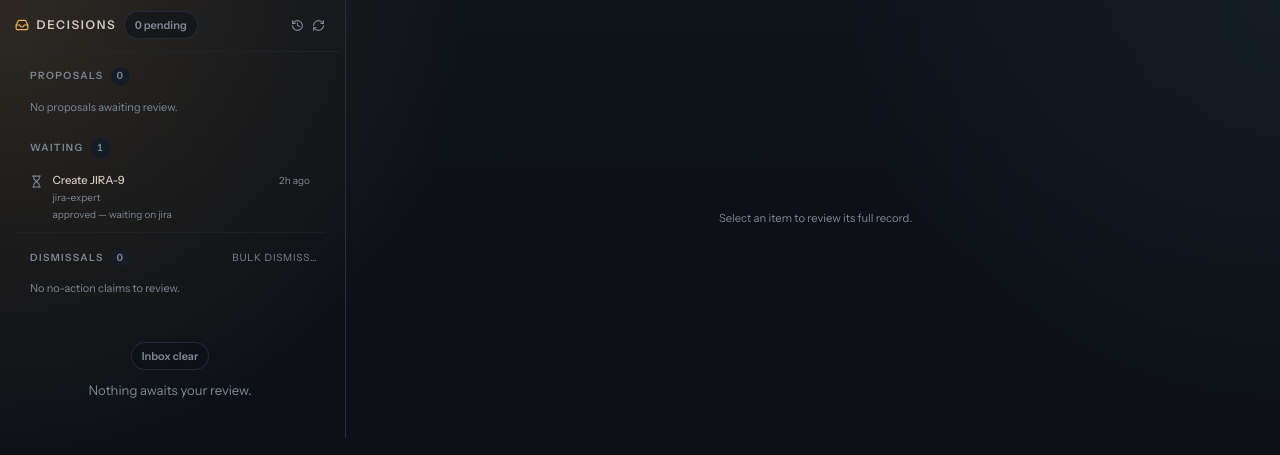
Test: DecisionsView waiting section › offers Retry now on a plain waiting proposal, scoped to its dependency
Click the button with test id "waiting-row": click(88, 180) x1=15 y1=163 x2=325 y2=233
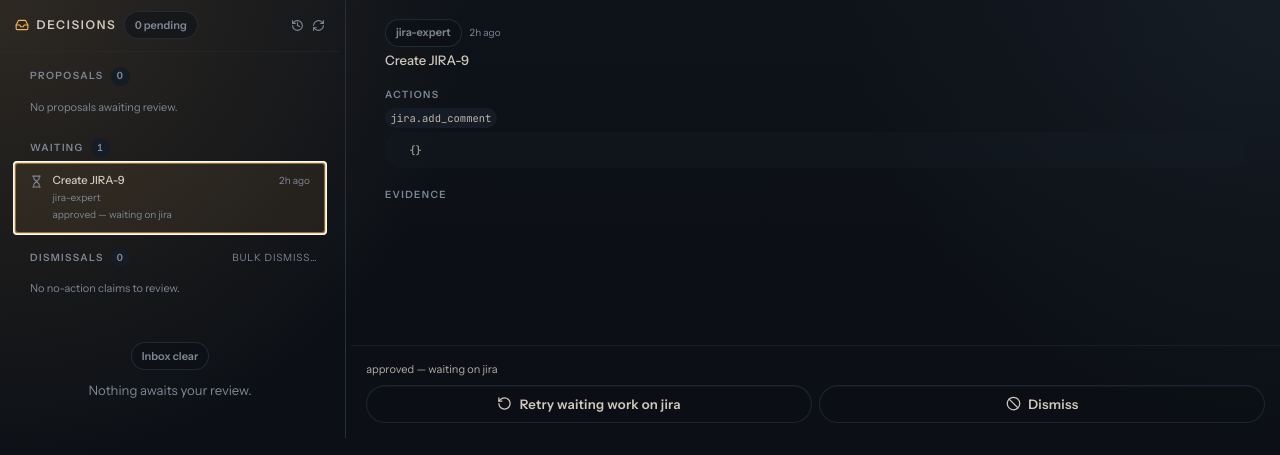
Expected: the button "Retry waiting work on jira" is enabled
Click the button "Retry waiting work on jira": click(589, 404) x1=366 y1=385 x2=812 y2=423
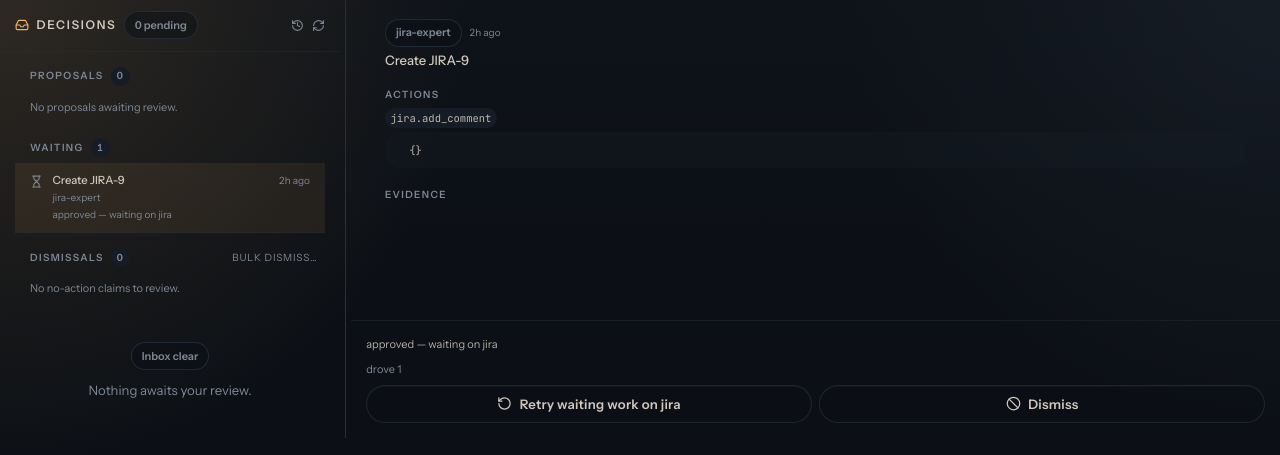
Expected: the text with test id "waiting-retry-result" reads "drove 1", x1=366 y1=362 x2=402 y2=376
